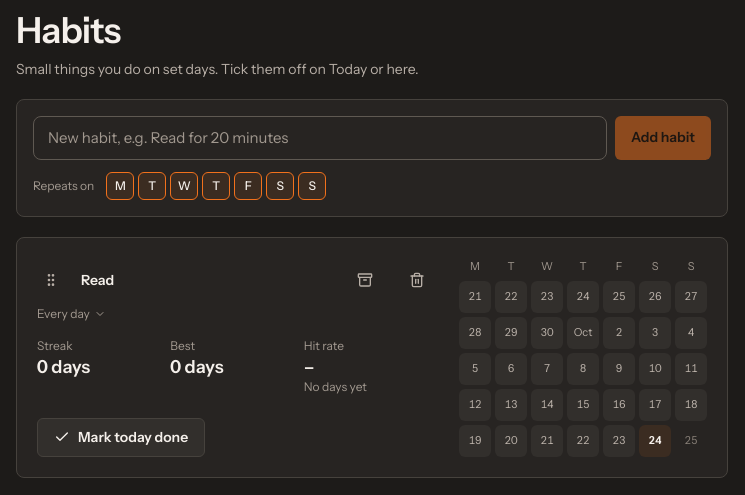
Test: HabitsPage › Escape cancels a rename
Step 1. Click the button "Read" → (208,280), box [81, 270, 335, 290]
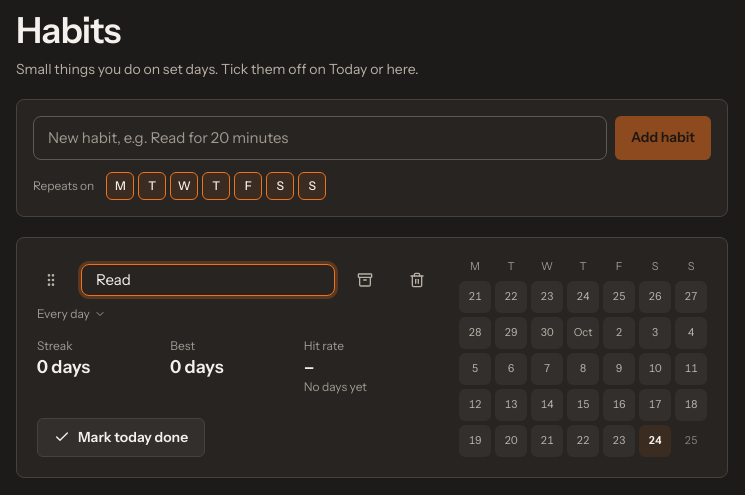
Step 2. Type "xyz" into the field named "Habit name" → (208,280), box [81, 264, 335, 296]
Then press Escape
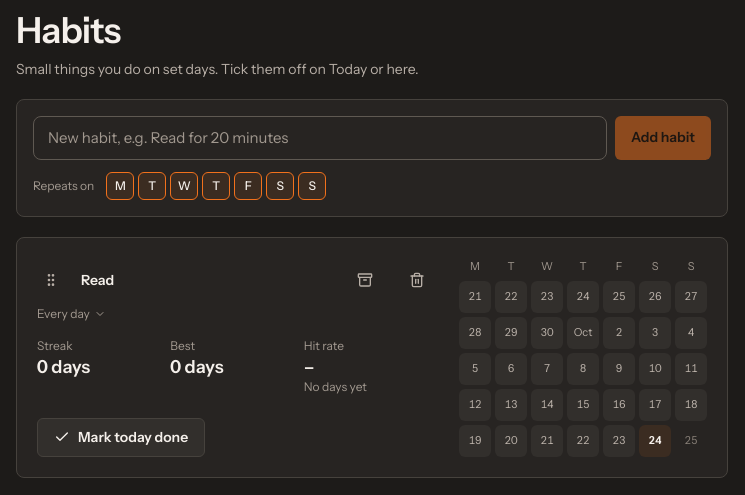
Check: the button "Read" is shown, box [81, 270, 335, 290]
